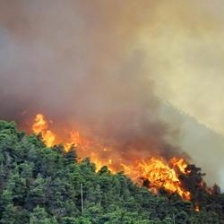fire: (30, 115, 206, 205)
smoke: (4, 1, 212, 115)
